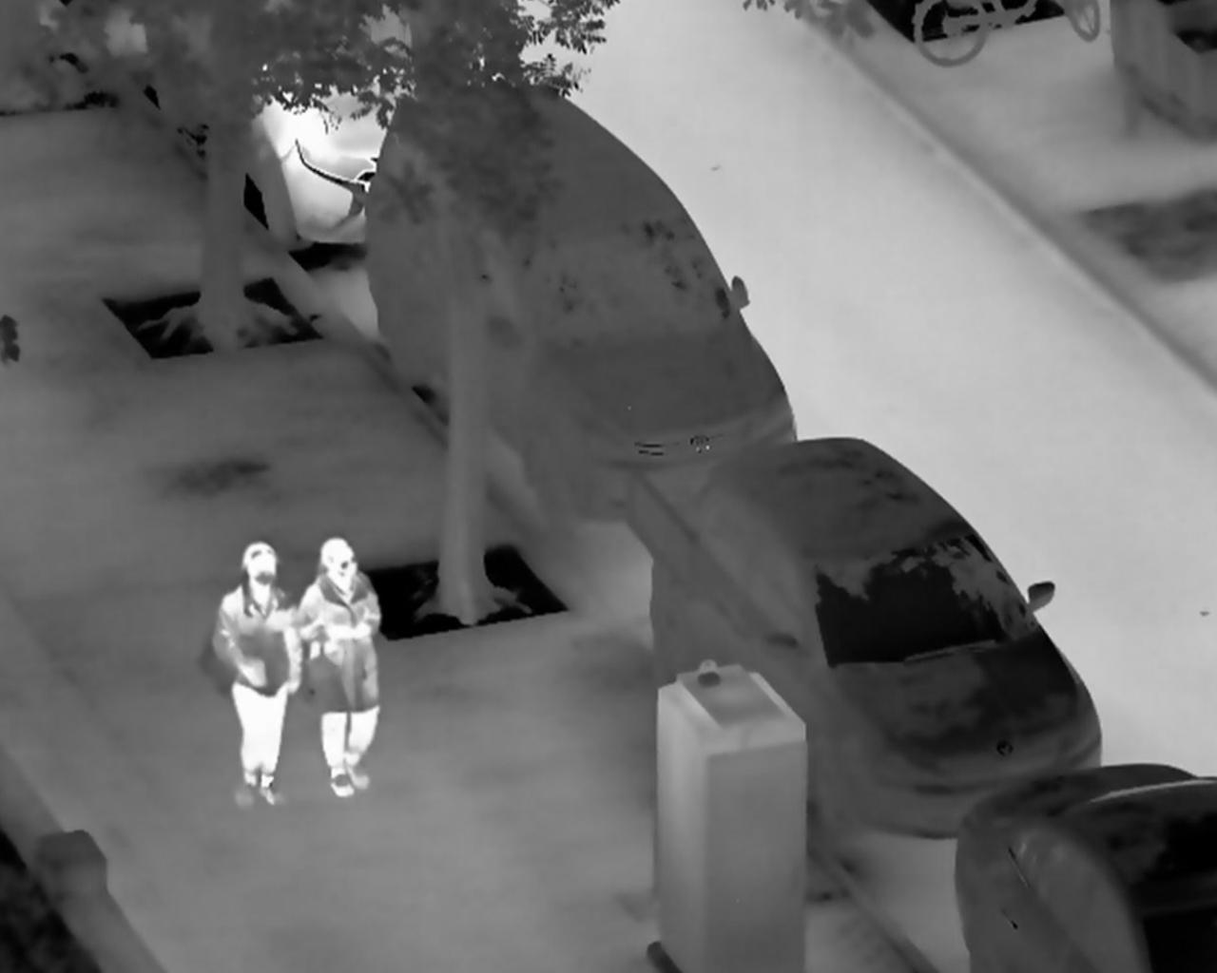person: (210, 539, 302, 815), (303, 536, 388, 800)
